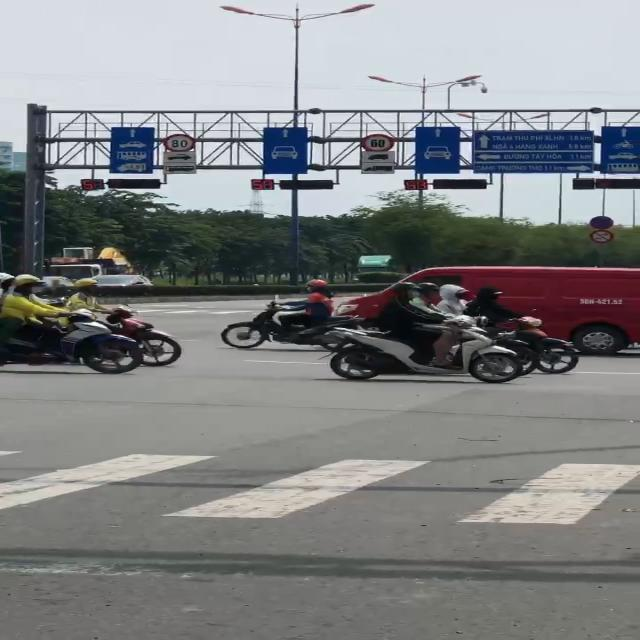Bien bao toc do toi da cho phep: (161, 131, 200, 153), (359, 132, 398, 153)
